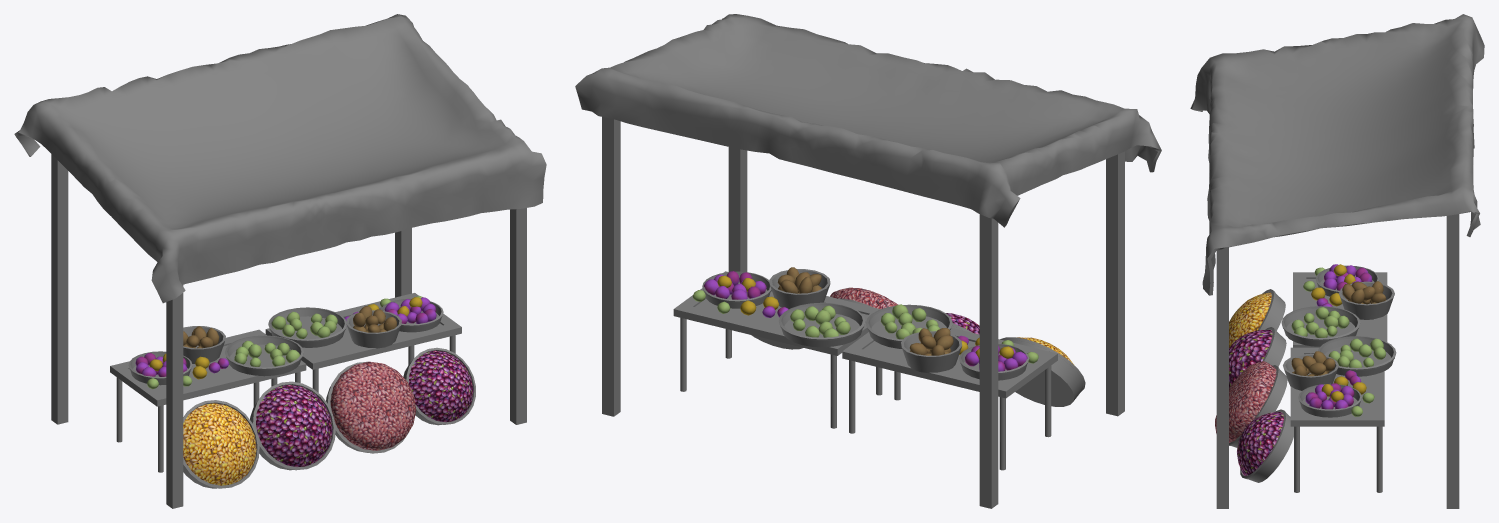
Rendered from SM_marketstand_preset_01.fbx.
The picture shows the model from 3 angles, left to right: view 1: azimuth 30°, elevation 25°; view 2: azimuth 150°, elevation 25°; view 3: azimuth 270°, elevation 25°; orthographic projection. The views are drawn at different scales.
Parts seen in each view (by area): view 1: Object33228; view 2: Object33228; view 3: Object33228.
Part boxes in pixels (x1=…): Object33228: x1=14, y1=14, x2=546, y2=508; Object33228: x1=575, y1=14, x2=1161, y2=508; Object33228: x1=1190, y1=14, x2=1484, y2=508.
Size of the model in its own units: 184 by 141 by 117.
